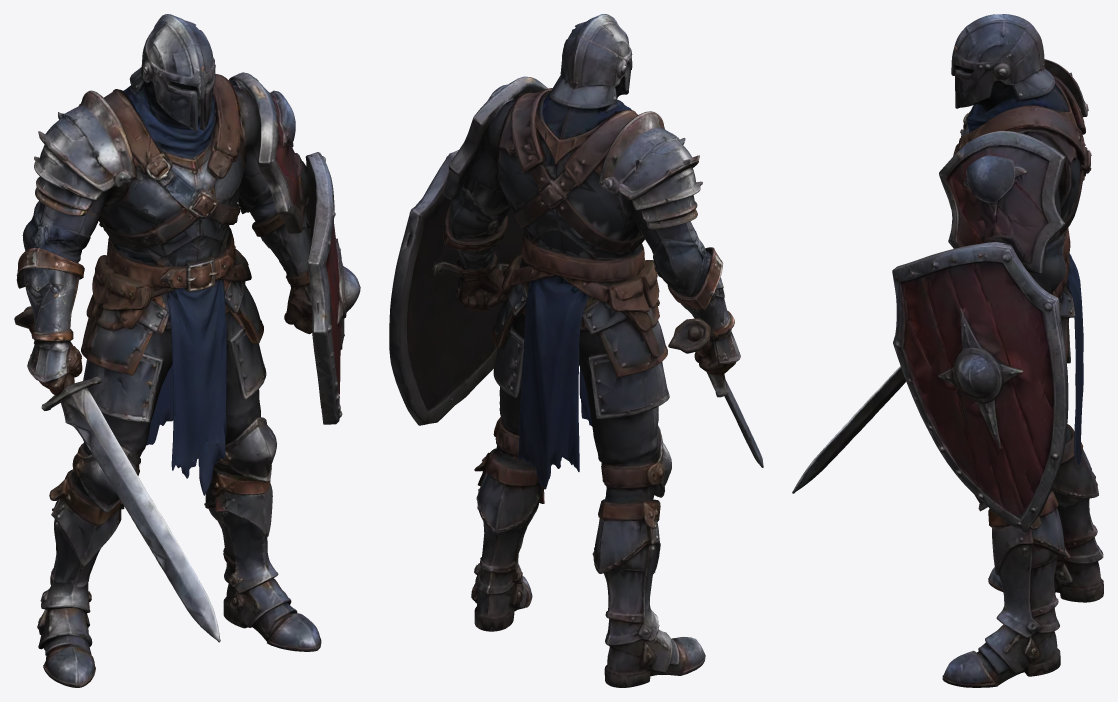
Rendered from knight.glb.
3 views of the same model, side by side, from view 1: azimuth 30°, elevation 25°; view 2: azimuth 150°, elevation 25°; view 3: azimuth 270°, elevation 25° (orthographic). The views are drawn at different scales.
Visible parts, largest first — view 1: tripo_node_fae44e37-407b-4e2a-bef9-3dc851e1937c; view 2: tripo_node_fae44e37-407b-4e2a-bef9-3dc851e1937c; view 3: tripo_node_fae44e37-407b-4e2a-bef9-3dc851e1937c.
Part boxes in pixels (bbox=[...]): tripo_node_fae44e37-407b-4e2a-bef9-3dc851e1937c: bbox=[14, 14, 360, 687]; tripo_node_fae44e37-407b-4e2a-bef9-3dc851e1937c: bbox=[389, 14, 763, 687]; tripo_node_fae44e37-407b-4e2a-bef9-3dc851e1937c: bbox=[792, 14, 1103, 687].
Bounding box in the file's own units: 0.5292 × 0.9796 × 0.4481.
Materials: 1 (1 with a texture image).
